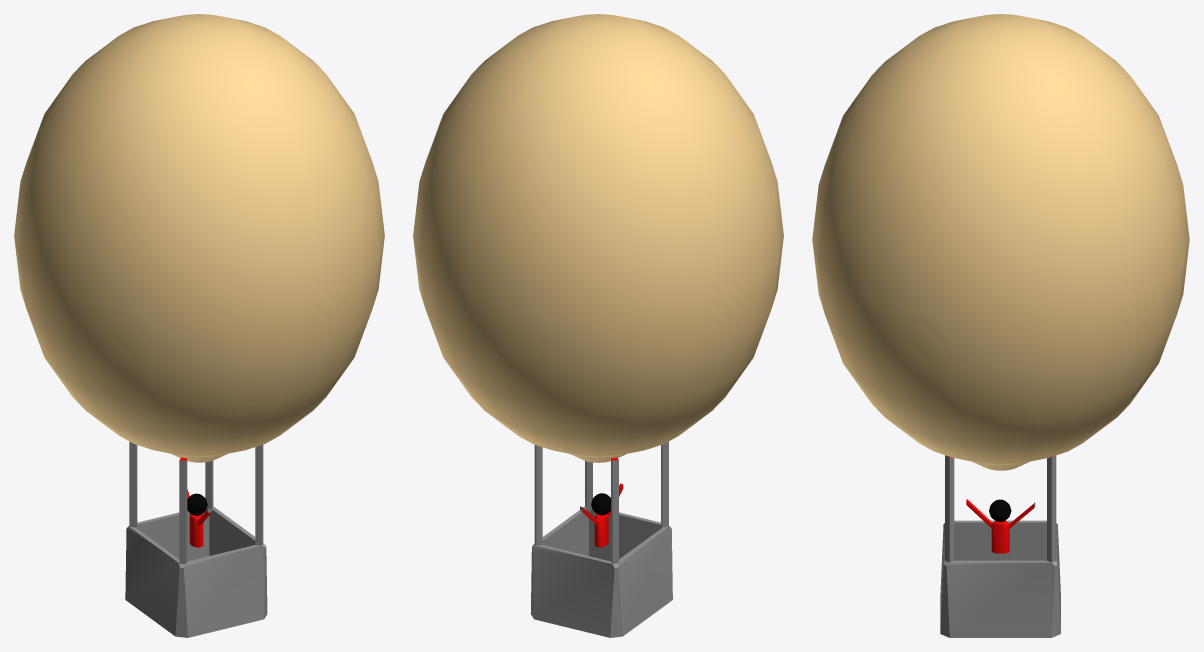
The model's file is airbalon.FBX.
3 views of the same model, side by side, from view 1: azimuth 30°, elevation 25°; view 2: azimuth 150°, elevation 25°; view 3: azimuth 270°, elevation 25° (orthographic).
Parts seen in each view (by area): view 1: Object002; view 2: Object002; view 3: Object002.
Part boxes in pixels (x1,y1,x2,y2): Object002: [14, 14, 384, 637]; Object002: [413, 14, 783, 637]; Object002: [812, 14, 1189, 637].
Bounding box in the file's own units: 40.26 × 40.26 × 69.36.
